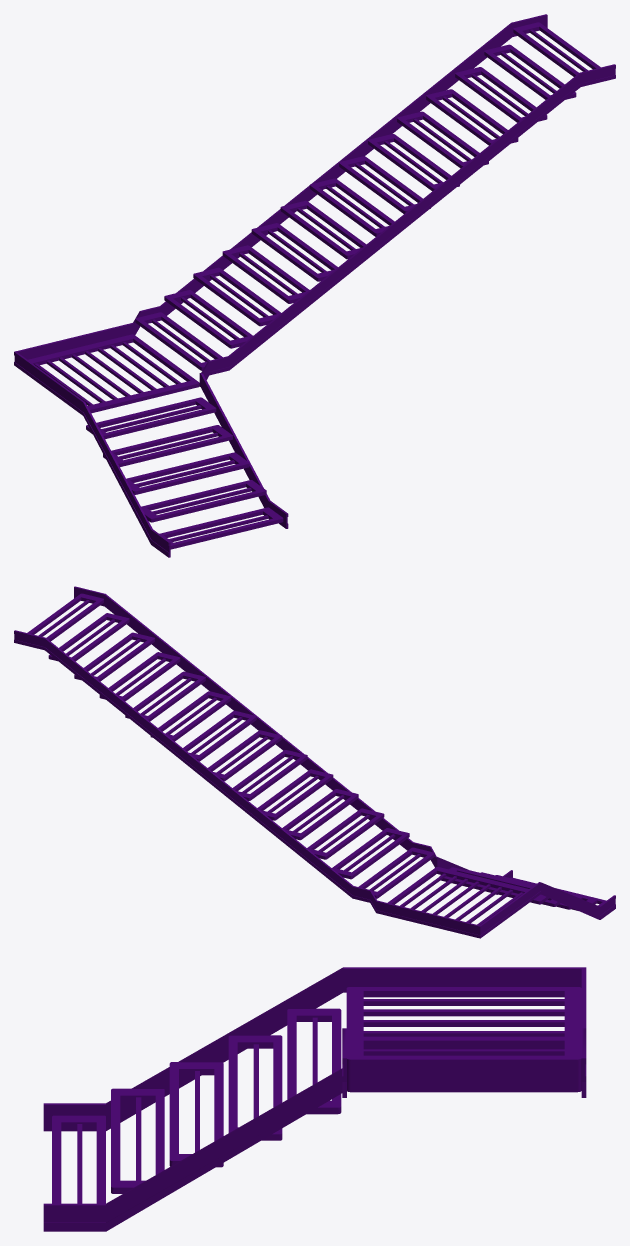
File: Stair.fbx
The picture shows the model from 3 angles, top to bottom: view 1: azimuth 30°, elevation 25°; view 2: azimuth 150°, elevation 25°; view 3: azimuth 270°, elevation 25°; orthographic projection. The views are drawn at different scales.
Visible parts, largest first — view 1: Stair; view 2: Stair; view 3: Stair.
Boxes of the visible parts, left/top/right/bottom form: Stair: left=14, top=14, right=615, bottom=557; Stair: left=14, top=586, right=615, bottom=938; Stair: left=43, top=967, right=586, bottom=1231.
Bounding box in the file's own units: 549 × 296 × 277.
